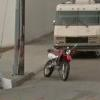Motorcycle: (39, 44, 76, 80)
